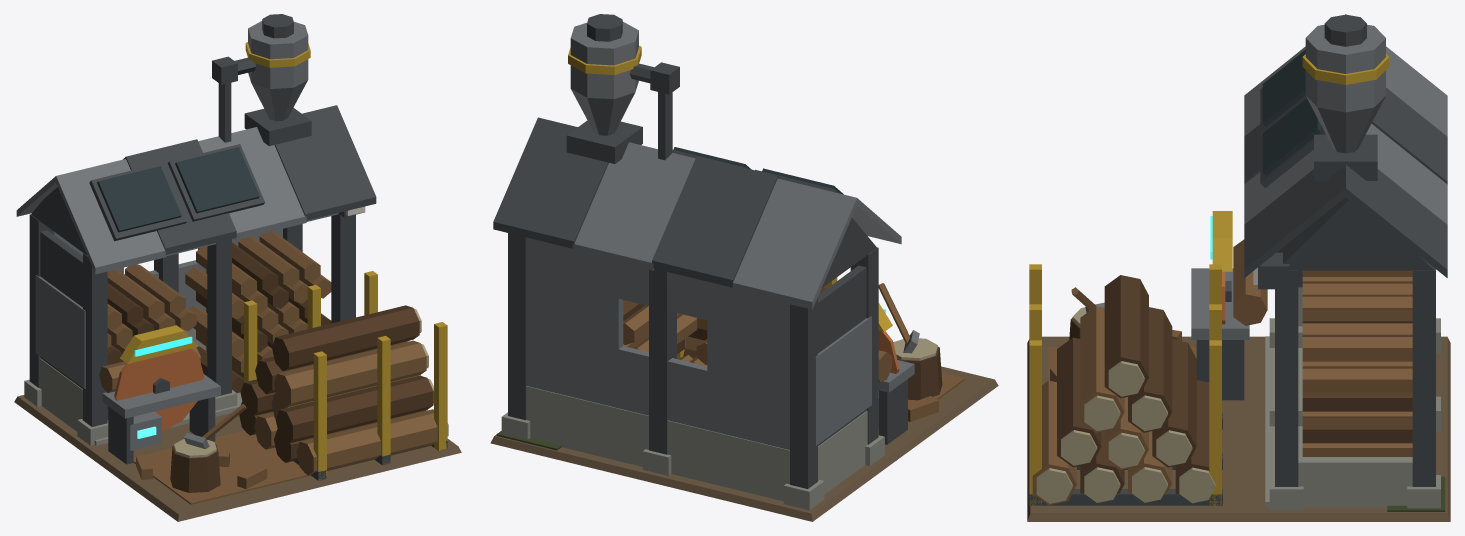
The model's file is woodcutter_l3.glb.
The picture shows the model from 3 angles, left to right: view 1: azimuth 30°, elevation 25°; view 2: azimuth 150°, elevation 25°; view 3: azimuth 270°, elevation 25°; orthographic projection. The views are drawn at different scales.
Parts seen in each view (by area): view 1: woodcutter_props, woodcutter_roof, woodcutter_structure; view 2: woodcutter_structure, woodcutter_roof, woodcutter_props; view 3: woodcutter_props, woodcutter_structure, woodcutter_roof.
Boxes of the visible parts, <box> form: woodcutter_props: <box>99,56,448,492</box>; woodcutter_roof: <box>16,14,376,274</box>; woodcutter_structure: <box>14,187,461,521</box>; woodcutter_structure: <box>490,218,998,521</box>; woodcutter_roof: <box>493,14,901,309</box>; woodcutter_props: <box>623,62,942,444</box>; woodcutter_props: <box>1029,211,1412,505</box>; woodcutter_structure: <box>1027,197,1450,521</box>; woodcutter_roof: <box>1244,14,1447,277</box>.
Bounding box in the file's own units: 4 × 4.8 × 4.
